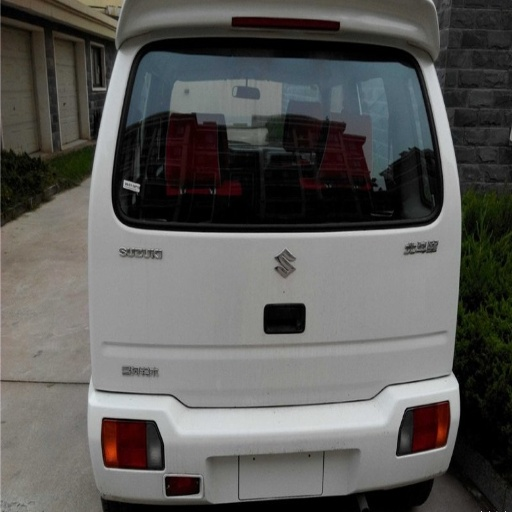back_bumper: (93, 337, 461, 504)
back_glass: (145, 39, 426, 221)
trunk: (96, 232, 455, 407)
